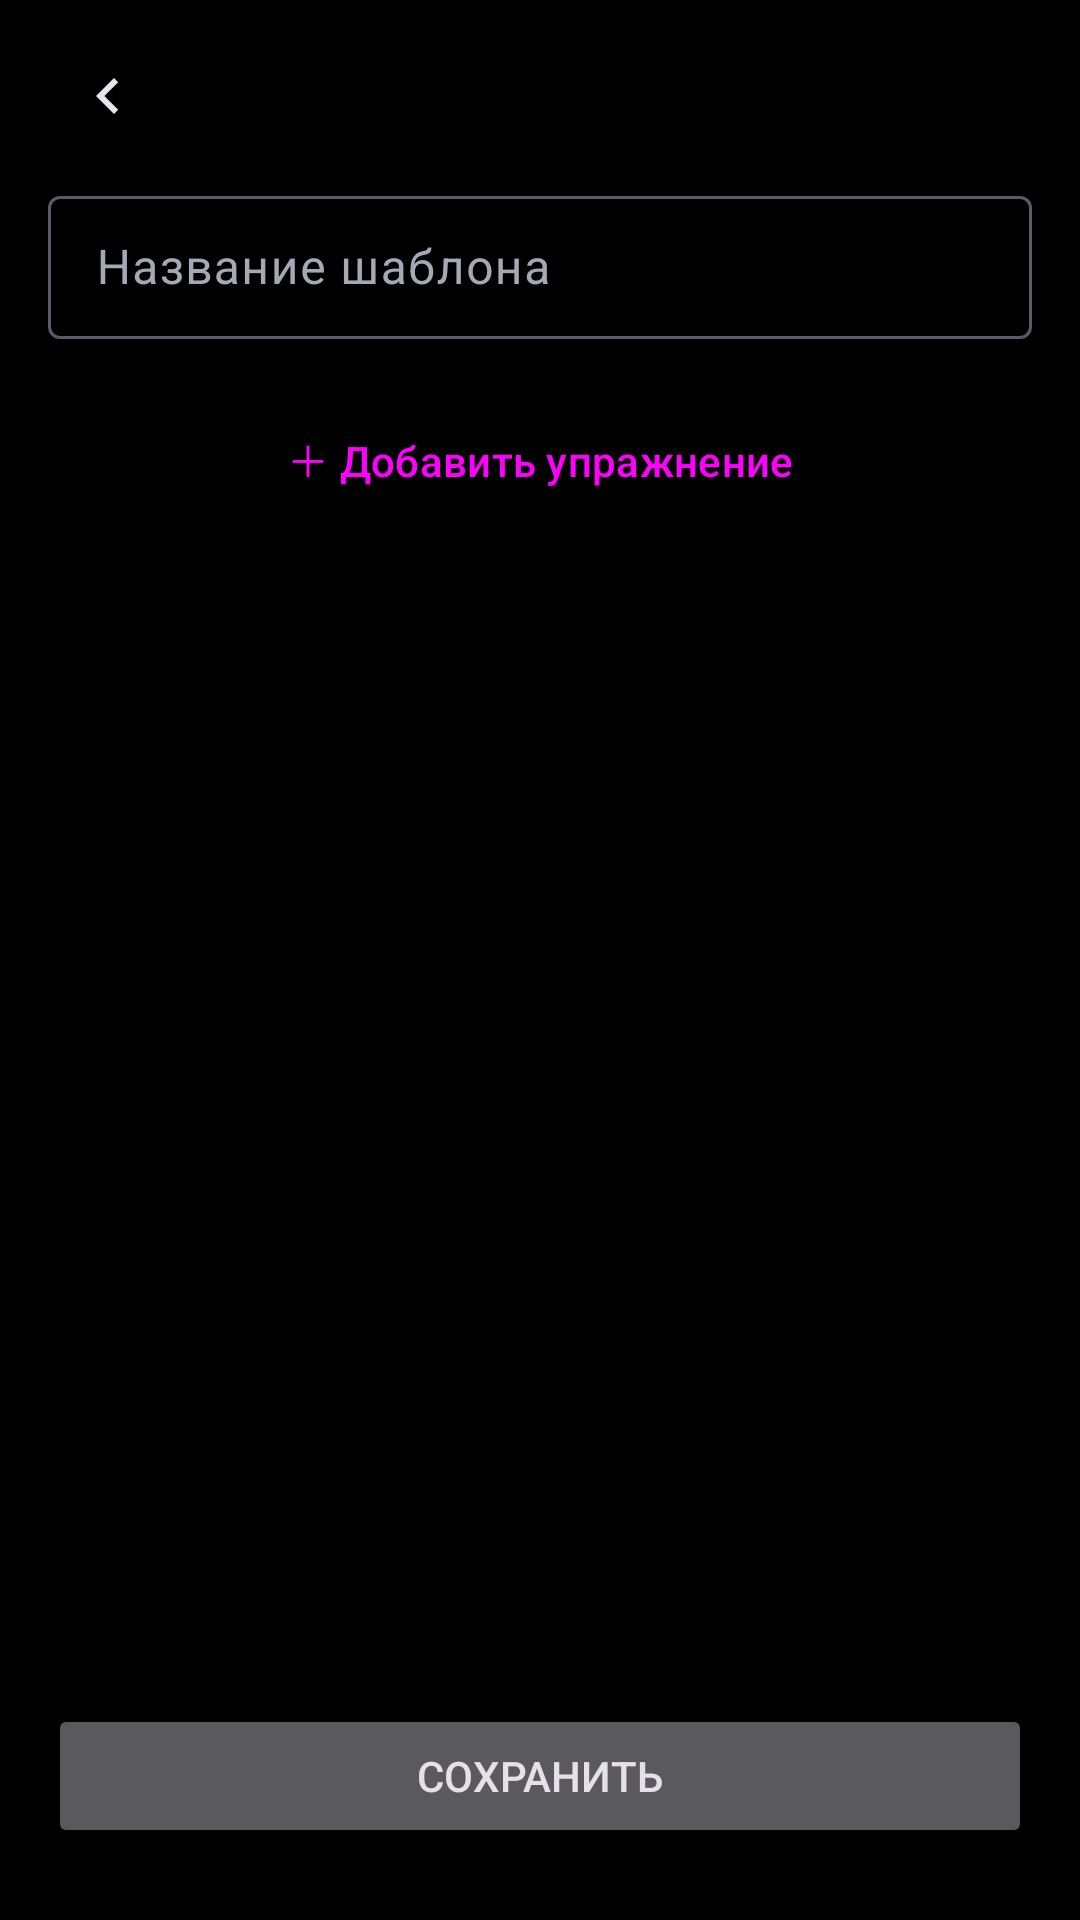

Named icons in this screenshot (1080px x 1920px) and their bounding boxes, BBox(x1, y1, x2, y2):
Назад: BBox(96, 78, 118, 114)
